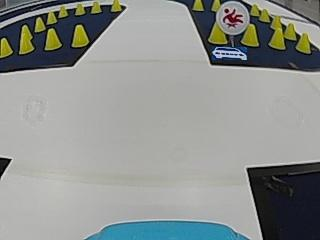cone: (241, 24, 259, 47), (208, 23, 227, 44), (71, 24, 88, 47), (268, 27, 285, 50), (19, 26, 32, 54), (44, 28, 60, 50), (296, 32, 310, 54), (0, 36, 12, 57), (284, 22, 296, 40), (34, 16, 45, 32), (46, 10, 57, 24), (259, 7, 269, 22), (91, 1, 102, 14), (75, 2, 85, 16), (192, 0, 204, 11), (58, 5, 68, 18), (250, 3, 260, 16), (111, 0, 121, 11)
tumble: (220, 4, 247, 30)
